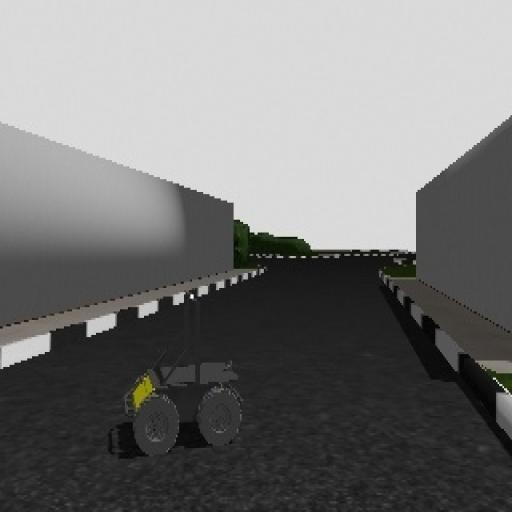huskya200: (112, 281, 254, 455)
